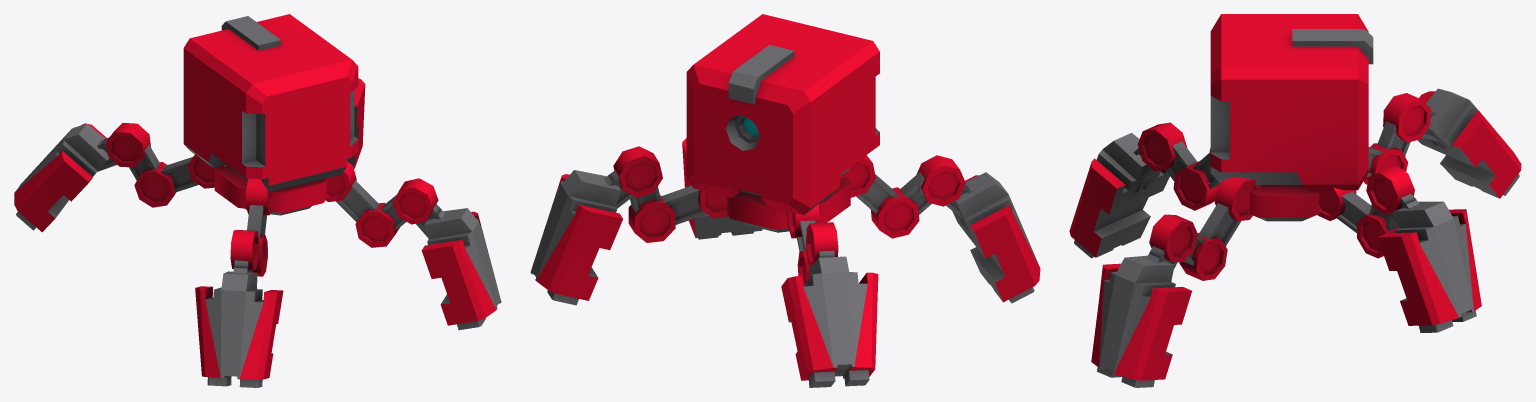
The model's file is Monster1_Move7.obj.
3 views of the same model, side by side, from view 1: azimuth 30°, elevation 25°; view 2: azimuth 150°, elevation 25°; view 3: azimuth 270°, elevation 25° (orthographic). The views are drawn at different scales.
Visible parts, largest first — view 1: Box006, Object021, Object017, Object025, Object020, Object028, Object027, Object018, Object019, Object026, Object022, Object024 (+1 smaller); view 2: Box006, Object025, Object013, Object021, Object016, Object023, Object024, Object015, Object014, Object022, Object017, Object028 (+1 smaller); view 3: Box006, Object013, Object017, Object021, Object025, Object018, Object020, Object023, Object016, Object028, Object024, Object014 (+3 smaller).
Part boxes in pixels (x1,y1,x2,y2): Box006: (183, 14, 358, 215); Object021: (195, 271, 283, 387); Object017: (421, 208, 501, 330); Object025: (14, 123, 109, 232); Object020: (392, 178, 444, 237); Object028: (97, 123, 150, 171); Object027: (129, 145, 175, 207); Object018: (325, 161, 379, 221); Object019: (355, 195, 406, 247); Object026: (160, 154, 225, 192); Object022: (246, 178, 272, 238); Object024: (230, 230, 259, 273); Box006: (686, 14, 879, 232); Object025: (781, 256, 878, 387); Object013: (530, 170, 622, 305); Object021: (952, 172, 1040, 303); Object016: (604, 146, 662, 208); Object023: (870, 172, 931, 238); Object024: (916, 155, 972, 219); Object015: (628, 186, 675, 242); Object014: (661, 185, 728, 224); Object022: (841, 155, 898, 214); Object017: (682, 138, 762, 239); Object028: (806, 222, 838, 266); Box006: (1210, 14, 1373, 221); Object013: (1377, 201, 1481, 332); Object017: (1091, 255, 1191, 387); Object021: (1069, 133, 1169, 258); Object025: (1417, 88, 1521, 198); Object018: (1198, 176, 1260, 246); Object020: (1146, 214, 1197, 268); Object023: (1165, 141, 1218, 210); Object016: (1366, 165, 1419, 223); Object028: (1383, 93, 1438, 142); Object024: (1133, 122, 1187, 182); Object014: (1316, 187, 1371, 232).
Bounding box in the file's own units: 154 × 114 × 168.
